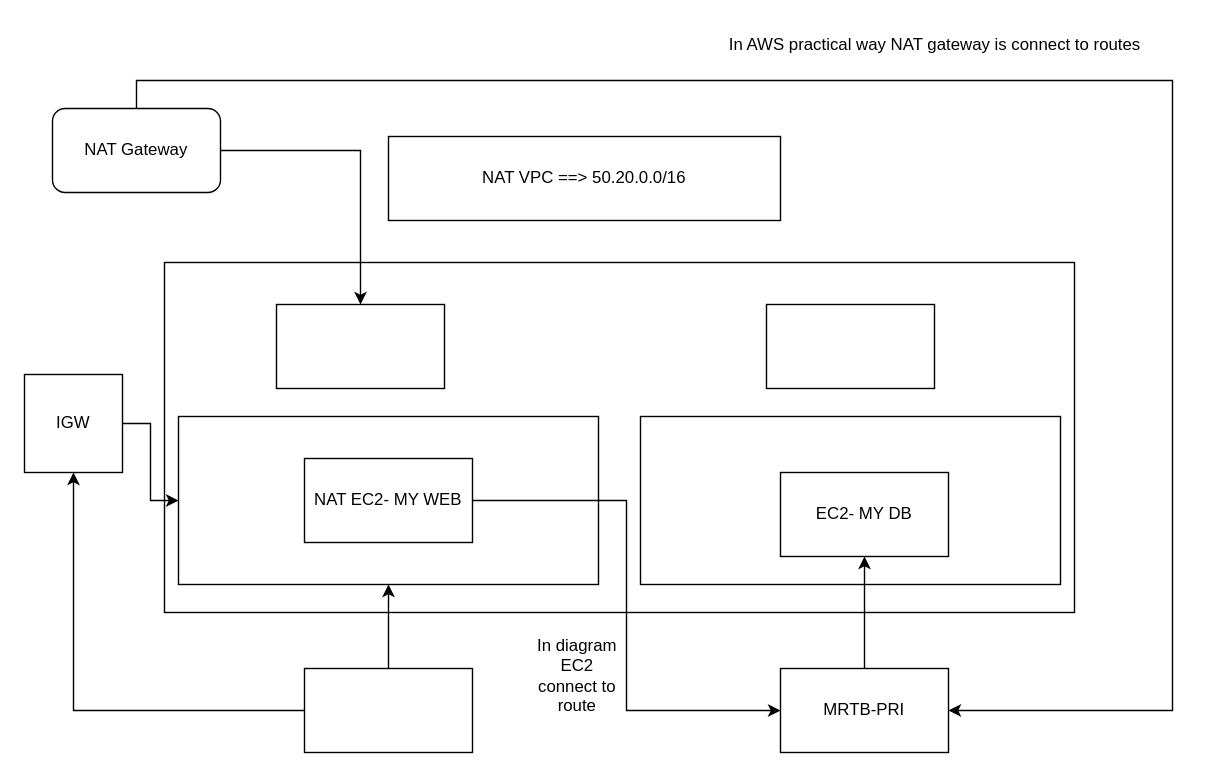
The diagram is 1208 pixels wide and 777 high, and some of its shapes have lost their labels. Here are the shapes that lost their labels. From the top down, the centre of each, then its label:
[359,345]: PUBLIC
[849,345]: PRIVATE
[387,709]: MRTB
